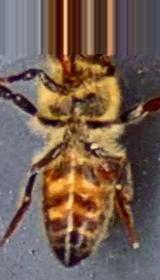varroa_mite: (86, 154, 132, 190)
